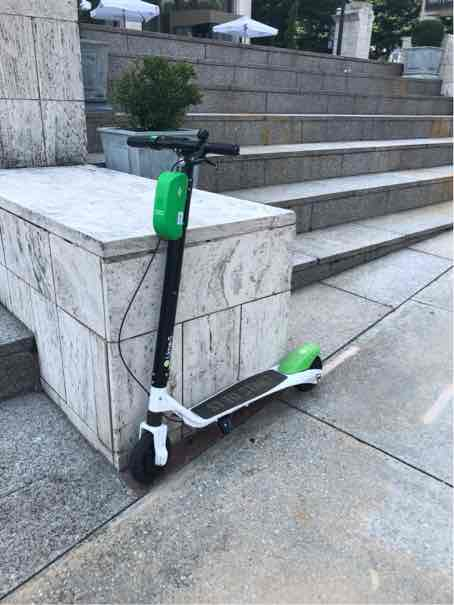scooter: (114, 125, 331, 491)
